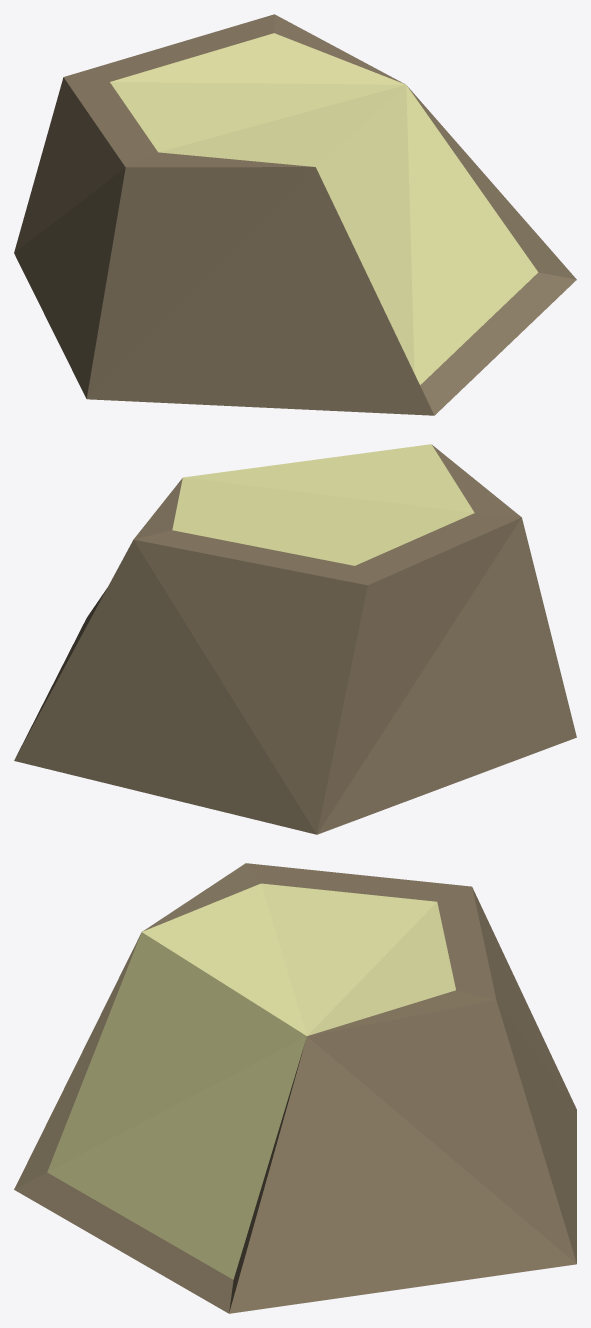
File: Apple_0_3.fbx
The picture shows the model from 3 angles, top to bottom: view 1: azimuth 30°, elevation 25°; view 2: azimuth 150°, elevation 25°; view 3: azimuth 270°, elevation 25°; orthographic projection. The views are drawn at different scales.
Visible parts, largest first — view 1: Apple_0_3; view 2: Apple_0_3; view 3: Apple_0_3.
Part boxes in pixels (x1=…): Apple_0_3: x1=14, y1=14, x2=576, y2=415; Apple_0_3: x1=14, y1=444, x2=576, y2=834; Apple_0_3: x1=14, y1=863, x2=576, y2=1313.
Size of the model in its own units: 105 by 44.63 by 99.79.
